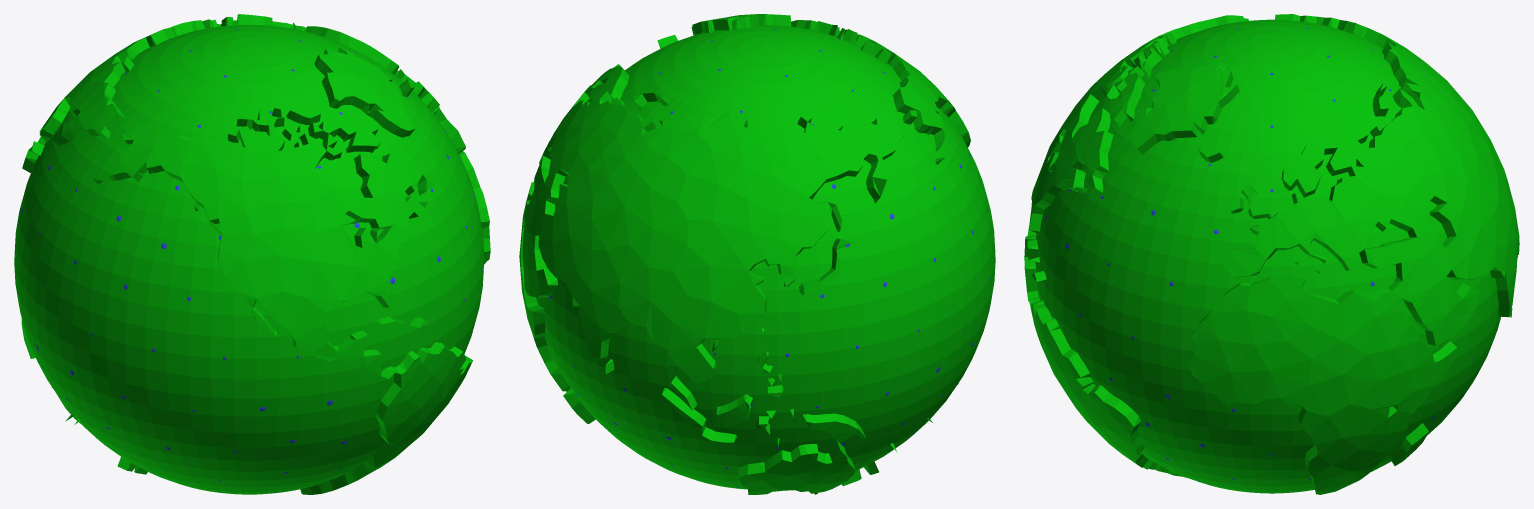
File: earth.4.gltf
The picture shows the model from 3 angles, left to right: view 1: azimuth 30°, elevation 25°; view 2: azimuth 150°, elevation 25°; view 3: azimuth 270°, elevation 25°; orthographic projection.
Parts seen in each view (by area): view 1: earth.001, earth.002, earth.005, earth.004, earth.003, ocean; view 2: earth.001, earth.005, earth.002, earth.004, earth.003; view 3: earth.001, earth.003, earth.002, earth.005, earth.004.
Part boxes in pixels (x1,y1,x2,y2): earth.001: (14,25,484,494); earth.002: (56,19,472,494); earth.005: (21,19,220,358); earth.004: (221,14,465,153); earth.003: (459,151,490,264); ocean: (19,28,482,491); earth.001: (536,25,995,489); earth.005: (522,112,905,442); earth.002: (587,14,970,494); earth.004: (539,64,670,197); earth.003: (519,181,595,423); earth.001: (1035,19,1500,493); earth.003: (1189,274,1457,494); earth.002: (1024,15,1420,477); earth.005: (1275,14,1519,347); earth.004: (1224,83,1467,277).
Bounding box in the file's own units: 2.05 × 2 × 2.09.
